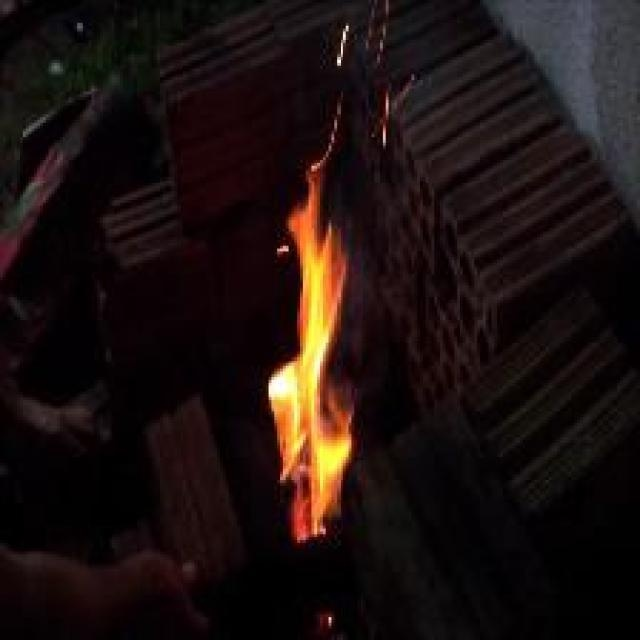fire: (223, 131, 396, 558)
